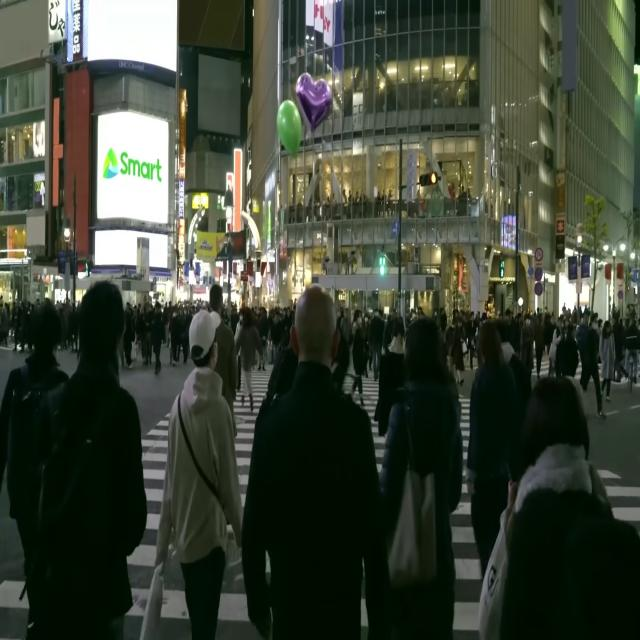balloon: (298, 78, 332, 131), (275, 103, 302, 155)
